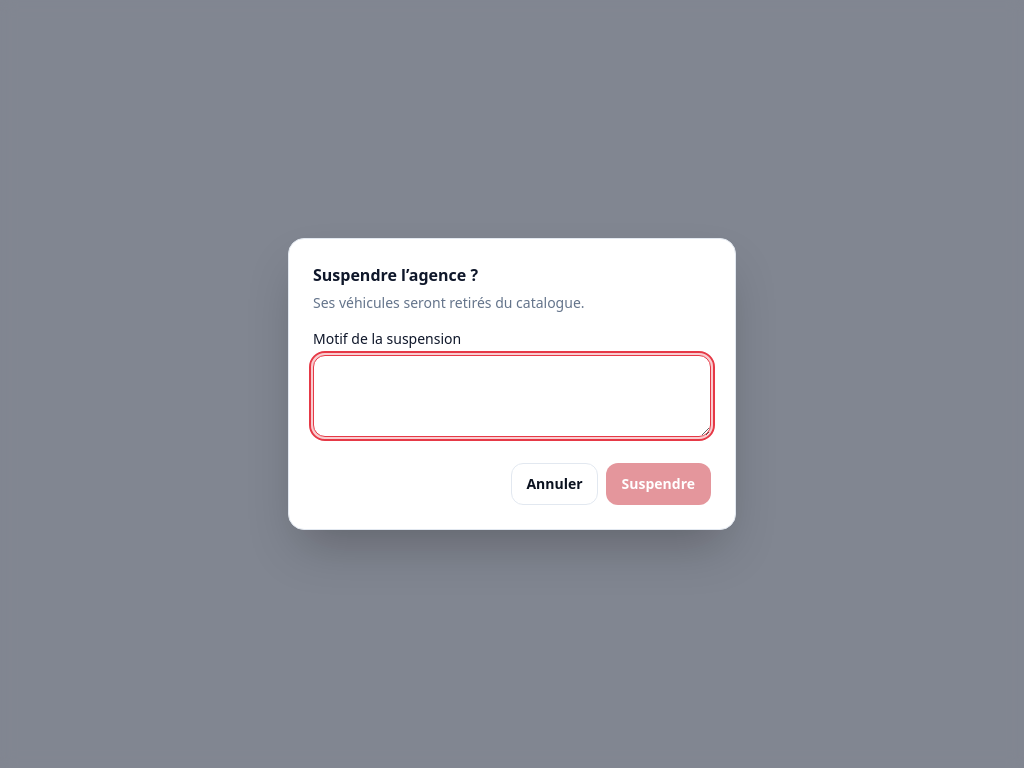
Test: ConfirmDialog — confirmation des actions irréversibles › motif obligatoire : confirmation impossible tant que le motif est vide
Later steps or results of the test are not shown.
Expected: the button "Suspendre" is disabled, [606,463,711,505]
Type "Documents expirés" into the text box labelled "Motif de la suspension" at (512, 396), box [313,355,711,437]
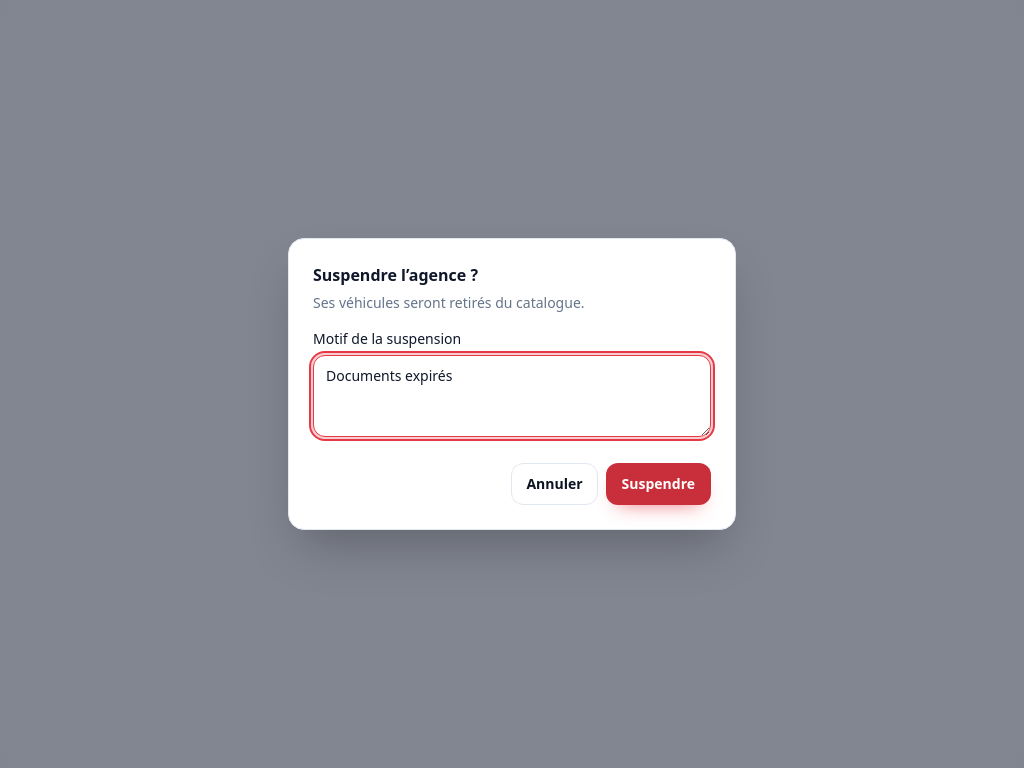
Expected: the button "Suspendre" is enabled, [606,463,711,505]
